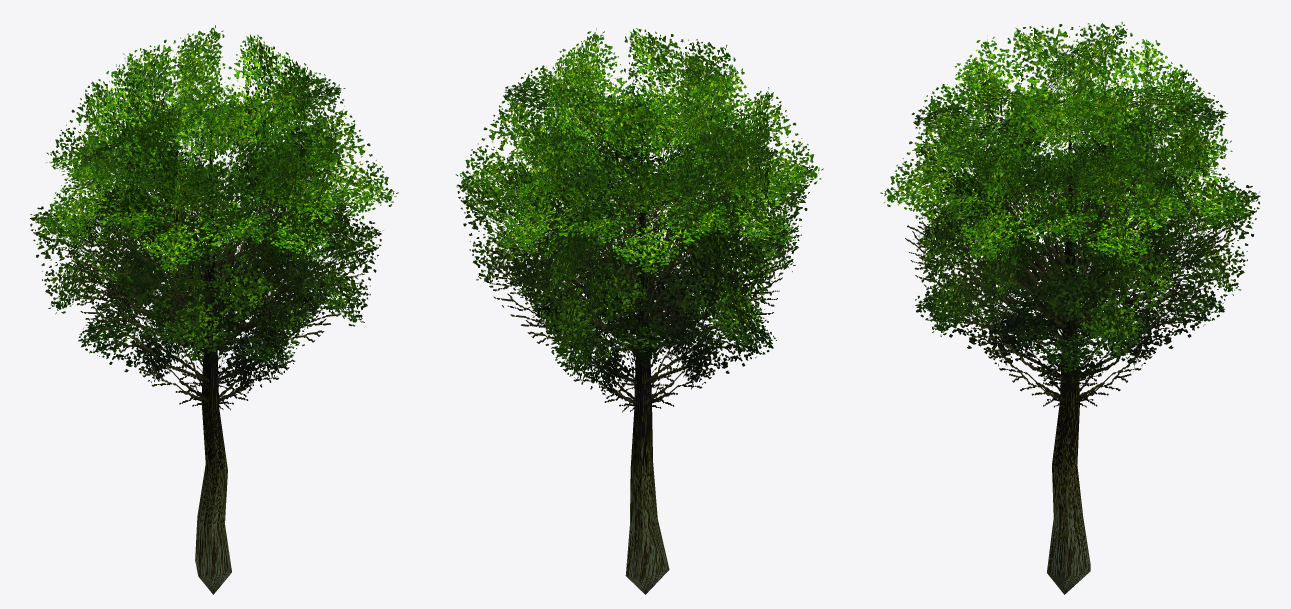
The model's file is esdoorn_3.fbx.
3 views of the same model, side by side, from view 1: azimuth 30°, elevation 25°; view 2: azimuth 150°, elevation 25°; view 3: azimuth 270°, elevation 25° (orthographic). The views are drawn at different scales.
Visible parts, largest first — view 1: esdoorn_3; view 2: esdoorn_3; view 3: esdoorn_3.
Part boxes in pixels (x1,y1,x2,y2): esdoorn_3: [30, 25, 398, 594]; esdoorn_3: [455, 28, 823, 594]; esdoorn_3: [880, 22, 1260, 594].
Bounding box in the file's own units: 1240 × 1864 × 1271.
